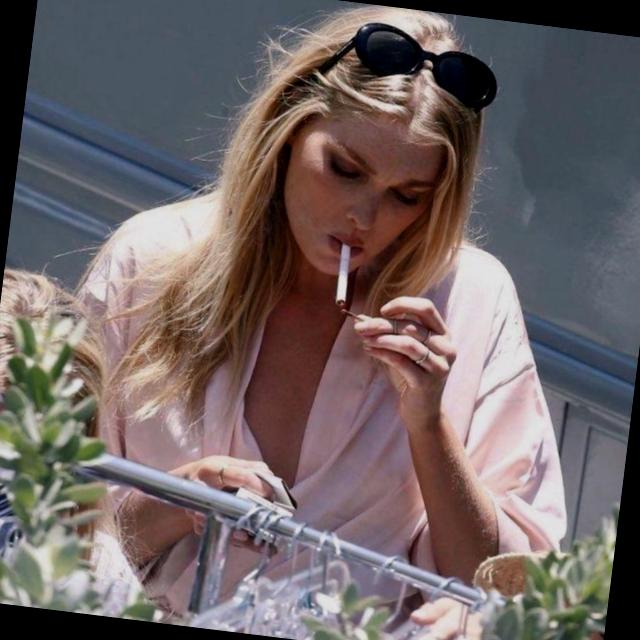smoke: (322, 230, 374, 317)
